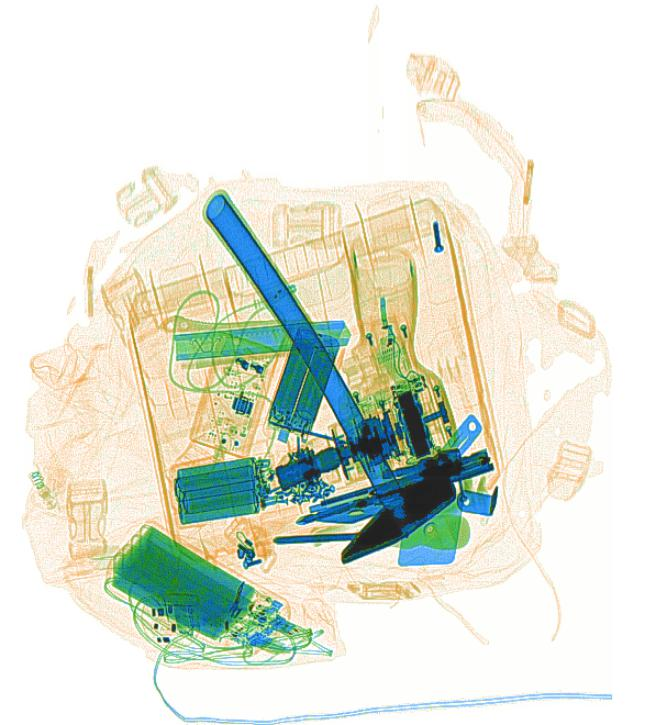battery: (265, 324, 341, 436), (171, 454, 271, 528)
knife: (161, 315, 353, 369)
